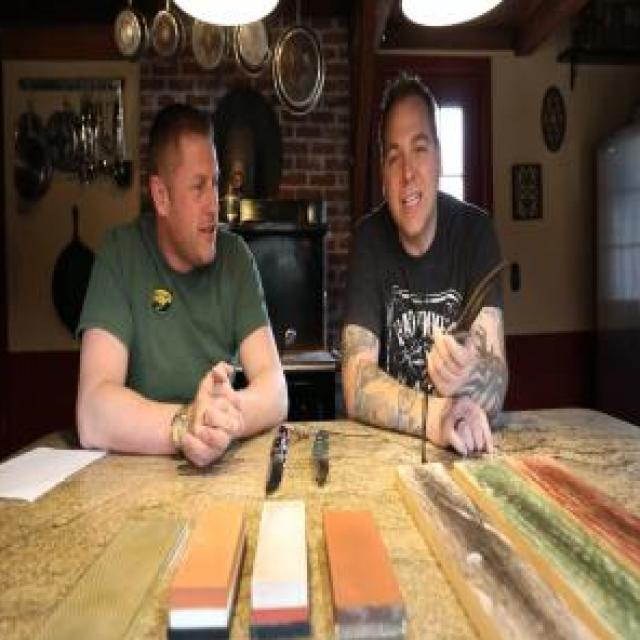knife: (426, 248, 517, 380)
